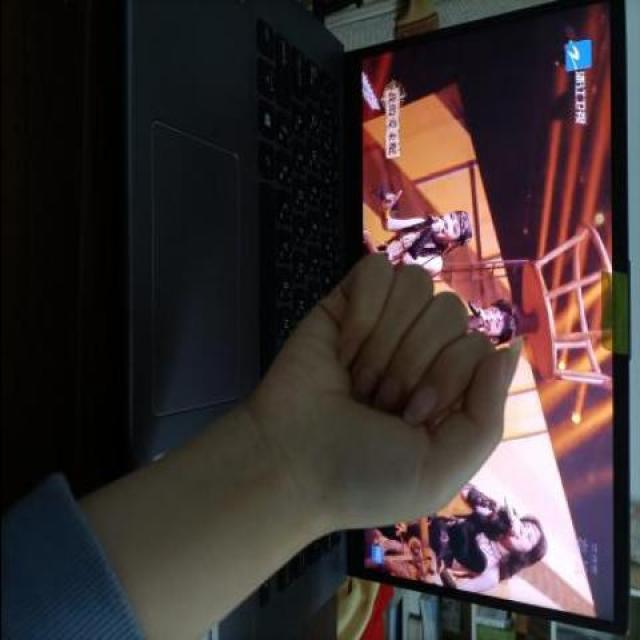Closed Hand: (253, 228, 550, 572)
